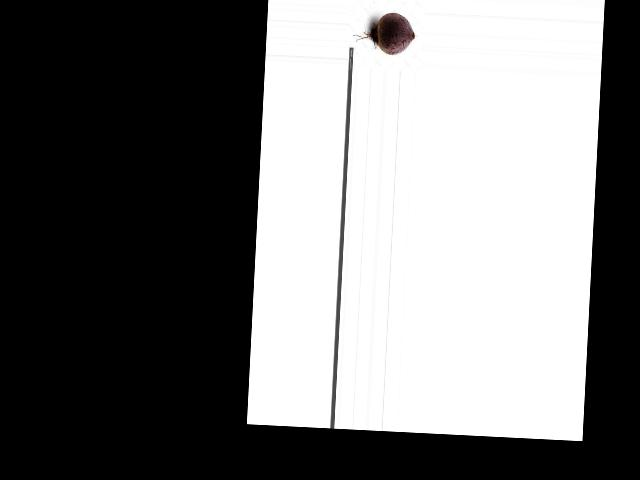beet: (351, 11, 416, 56)
